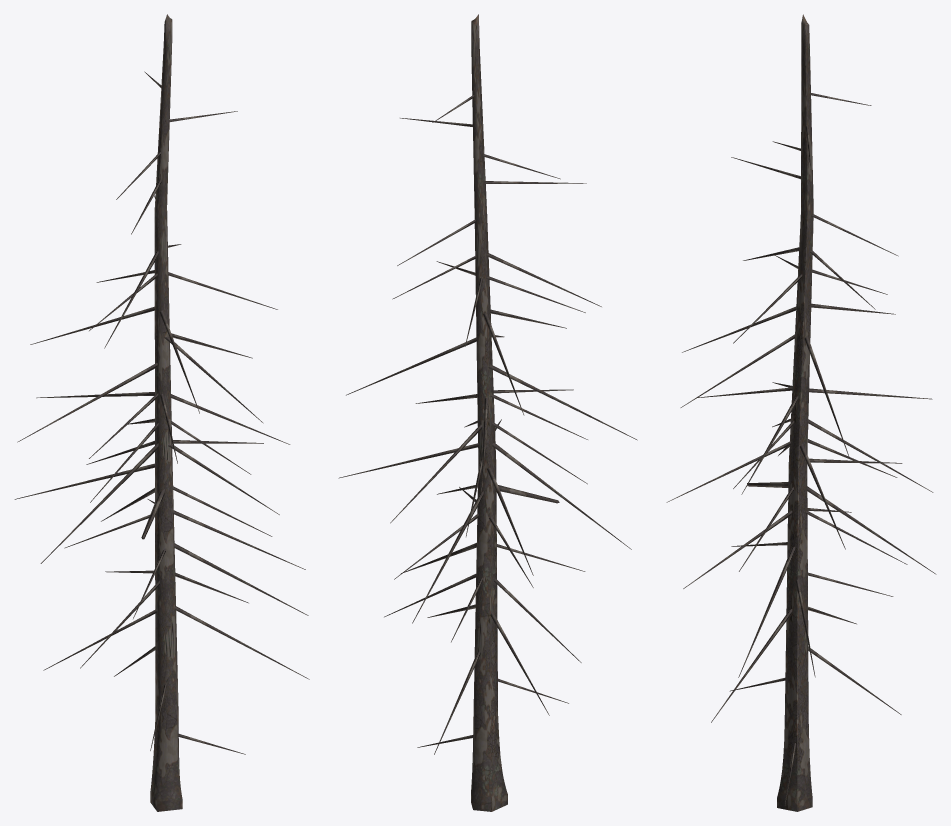
File: BrokenSpruce.glb
3 renders of one model, left to right at view 1: azimuth 30°, elevation 25°; view 2: azimuth 150°, elevation 25°; view 3: azimuth 270°, elevation 25°, orthographic.
Visible parts, largest first — view 1: trunk_lod2, branches_lod2; view 2: trunk_lod2, branches_lod2; view 3: trunk_lod2, branches_lod2.
Part boxes in pixels (left/top/right/bottom): trunk_lod2: left=150, top=14, right=182, bottom=811; branches_lod2: left=14, top=71, right=309, bottom=754; trunk_lod2: left=471, top=14, right=507, bottom=811; branches_lod2: left=338, top=95, right=637, bottom=754; trunk_lod2: left=777, top=14, right=813, bottom=811; branches_lod2: left=666, top=93, right=936, bottom=805.
Bounding box in the file's own units: 4.36 × 12.04 × 3.72.
2 materials, 2 textured.
